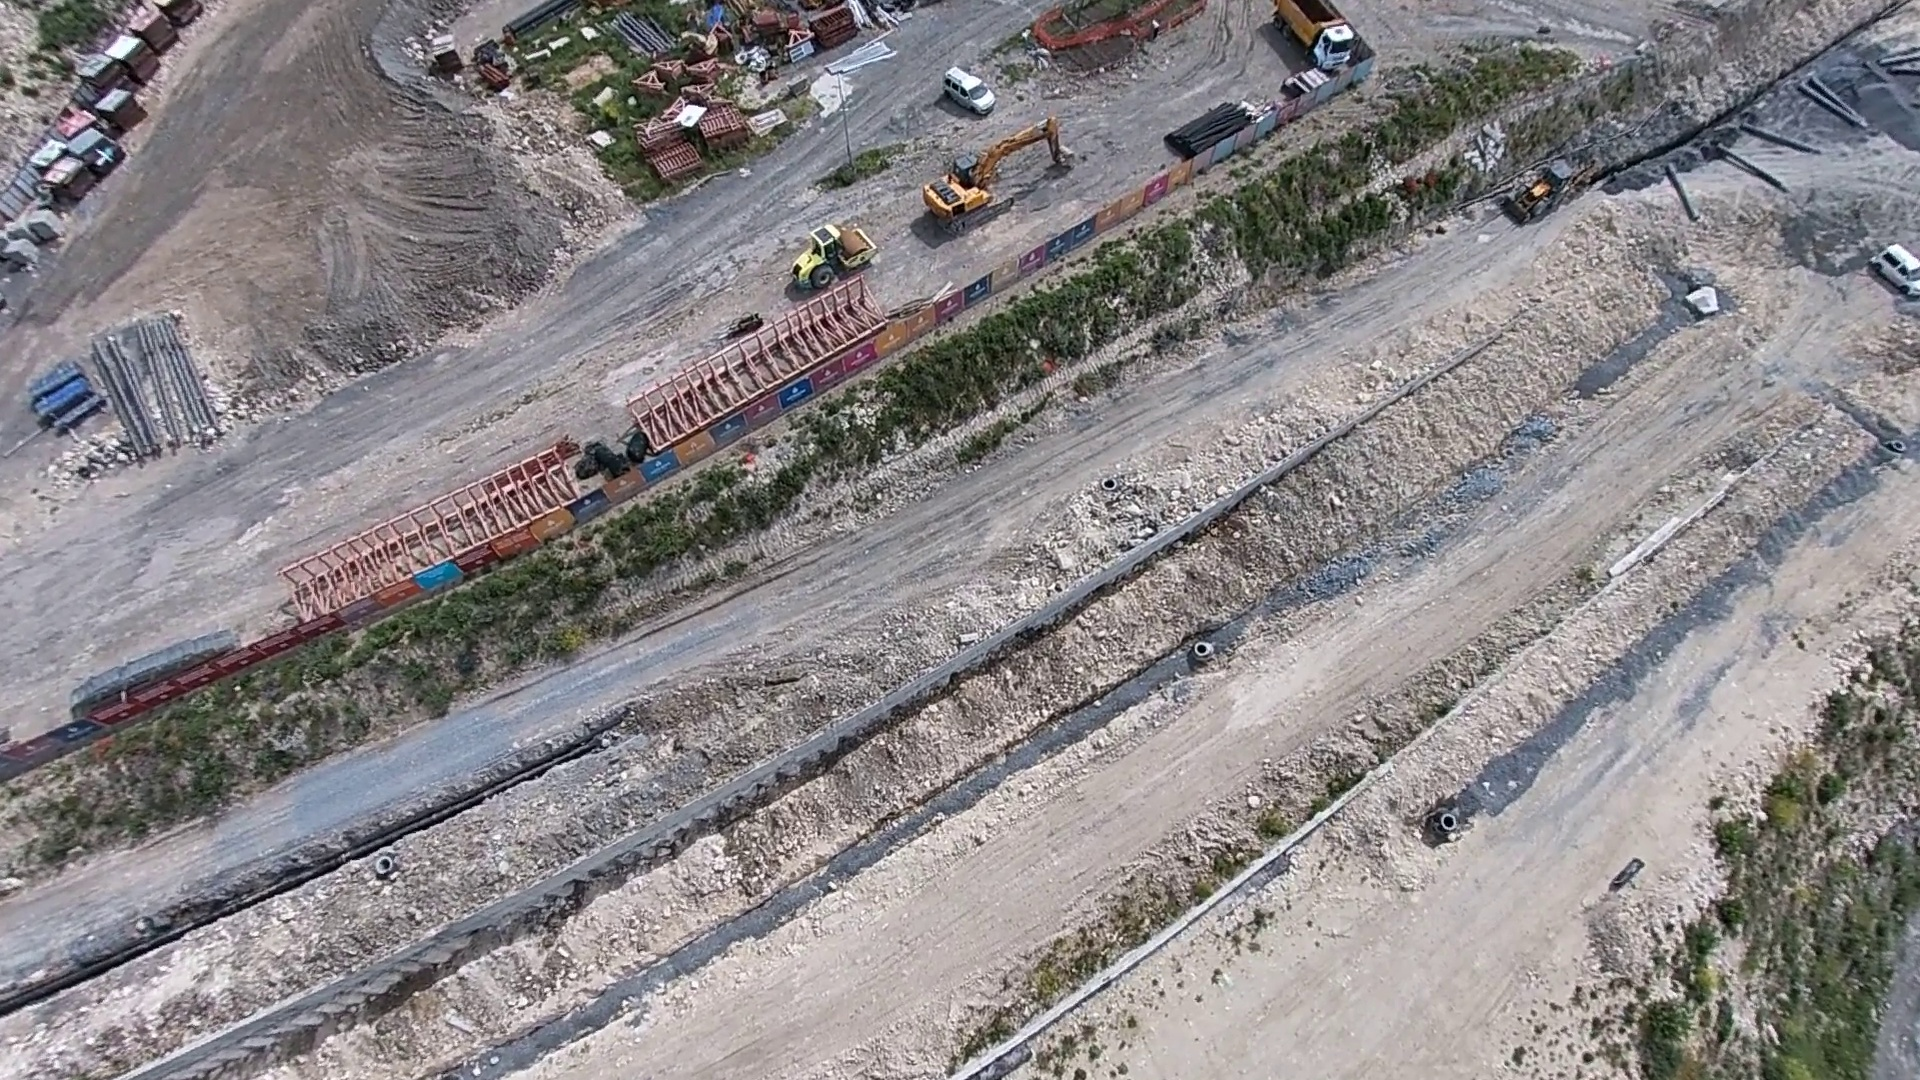arac: (919, 113, 1076, 243), (786, 216, 880, 294), (1265, 3, 1360, 75), (1503, 157, 1592, 225), (934, 63, 1005, 124), (1865, 237, 1920, 293)
